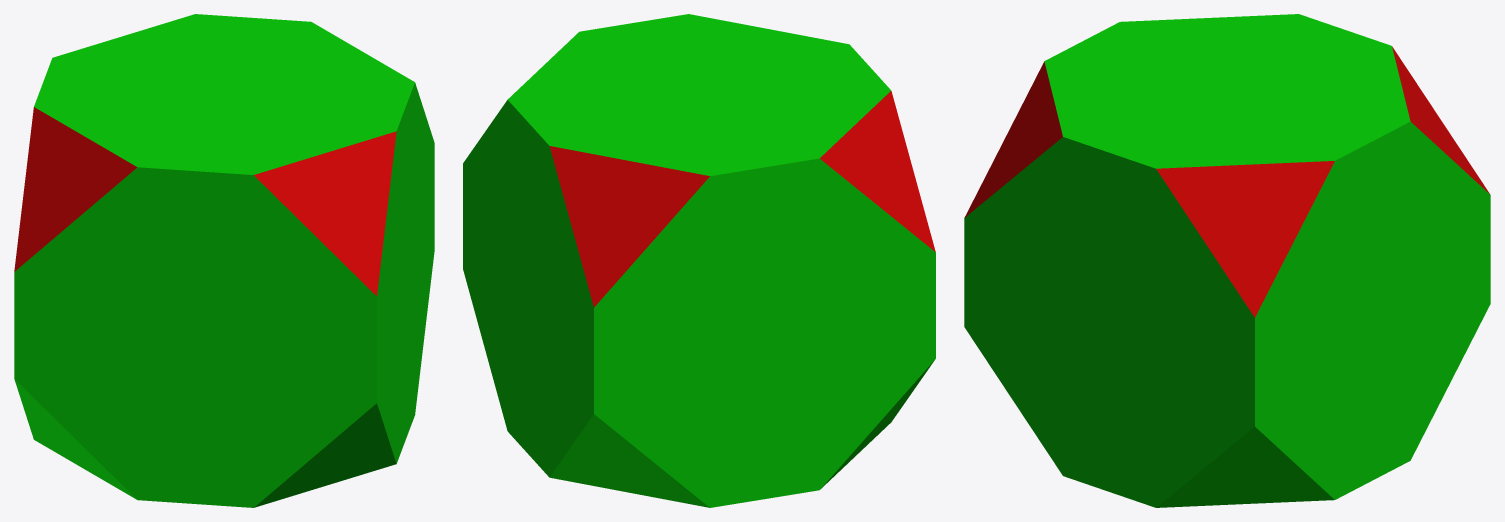
Rendered from anim_cube_000034.obj.
3 renders of one model, left to right at view 1: azimuth 30°, elevation 25°; view 2: azimuth 150°, elevation 25°; view 3: azimuth 270°, elevation 25°, orthographic. The views are drawn at different scales.
Visible parts, largest first — view 1: Cube_Cube.002_Material.002, Cube_Cube.002_Material.001; view 2: Cube_Cube.002_Material.002, Cube_Cube.002_Material.001; view 3: Cube_Cube.002_Material.002, Cube_Cube.002_Material.001.
Part boxes in pixels (left/top/right/bottom): Cube_Cube.002_Material.002: left=14, top=14, right=434, bottom=507; Cube_Cube.002_Material.001: left=14, top=107, right=396, bottom=295; Cube_Cube.002_Material.002: left=463, top=14, right=935, bottom=507; Cube_Cube.002_Material.001: left=549, top=91, right=935, bottom=307; Cube_Cube.002_Material.002: left=964, top=14, right=1490, bottom=507; Cube_Cube.002_Material.001: left=964, top=46, right=1490, bottom=317.
Size of the model in its own units: 4.35 by 3.09 by 4.35.
